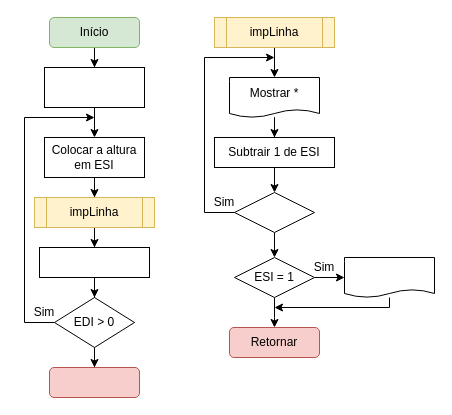
The diagram is 452 pixels wide and 415 high, and some of its shapes have lost their labels. Each missing label, with the box of its shape:
Colocar a altura em EDI: (44, 66, 144, 108)
ESI > 1: (234, 192, 314, 232)
Final: (48, 366, 140, 398)
Mostrar * + LF: (344, 256, 434, 298)
Subtrair 1 de EDI: (38, 246, 150, 278)
